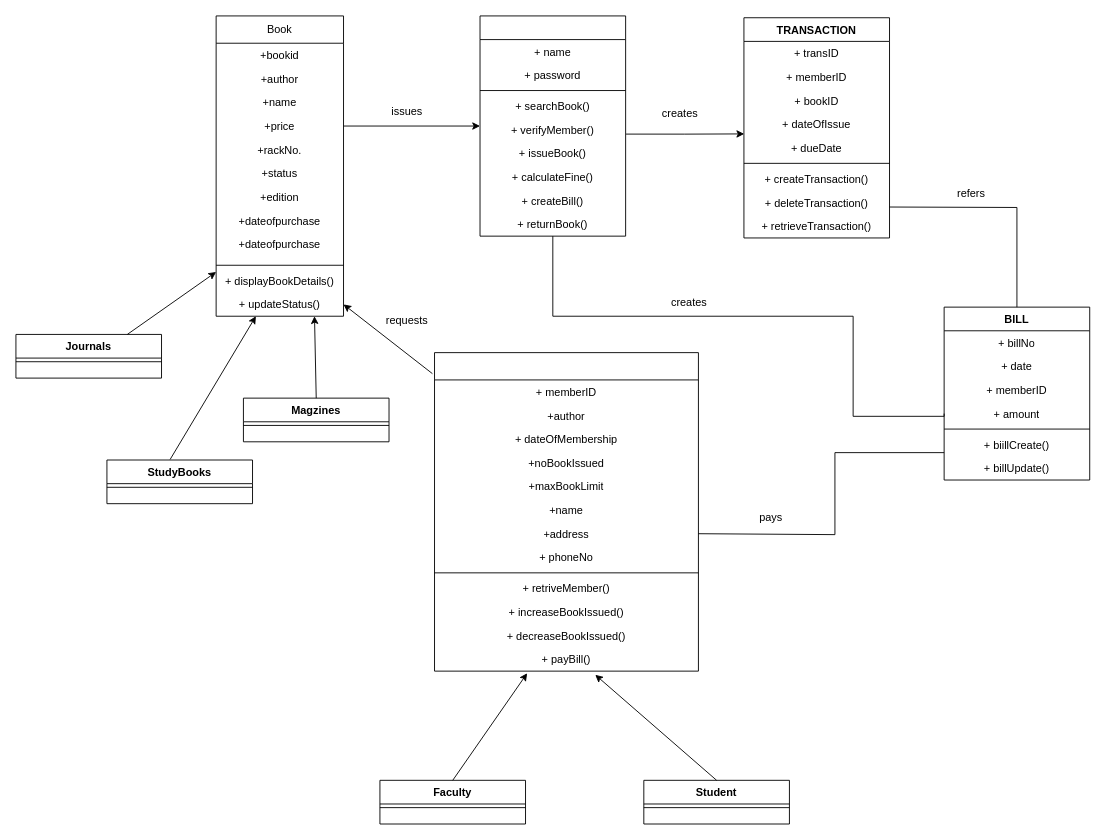
The diagram is 1106 pixels wide and 840 high, and some of its shapes have lost their labels. Each missing label, with the box of its shape:
LIBRARIAN: (479, 15, 626, 236)
MemberRecord: (434, 352, 698, 671)
